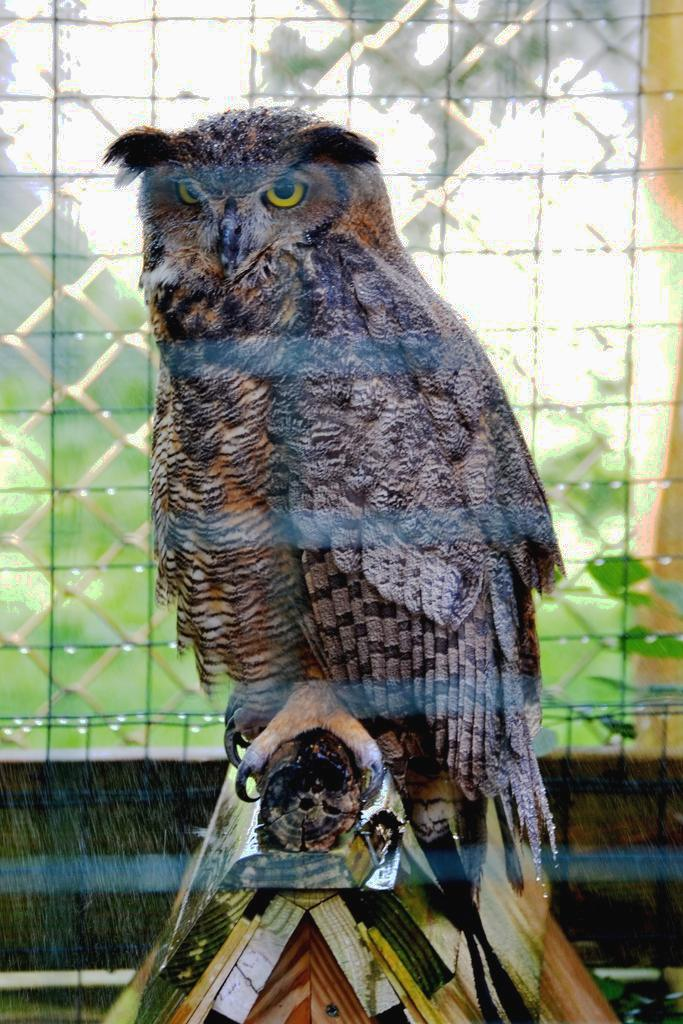Owl: (111, 100, 572, 898)
